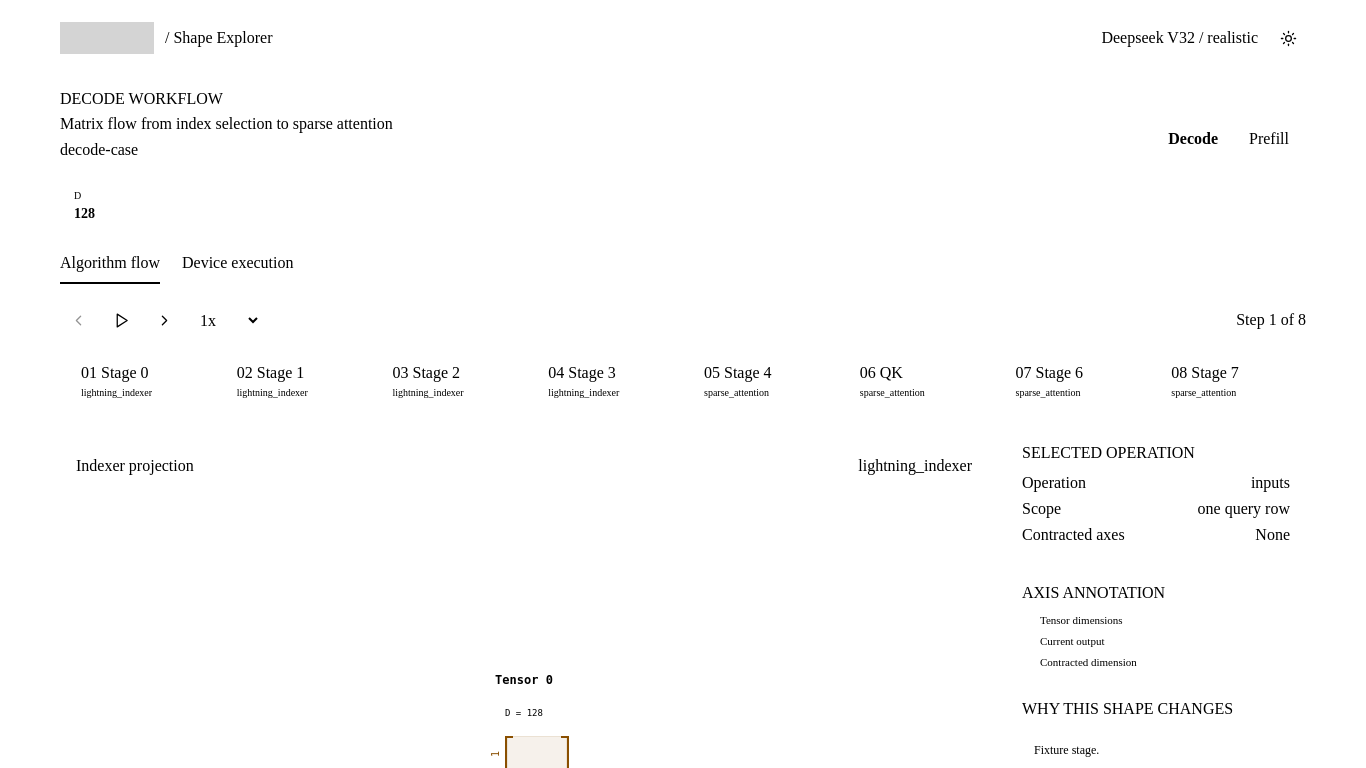
it: switches phase within the same generic group and resets the stage
The width and height of the screenshot is (1366, 768).
Click the button "06 QK sparse_attention".
click(917, 380)  # box top-left (839, 350), bottom-right (995, 410)
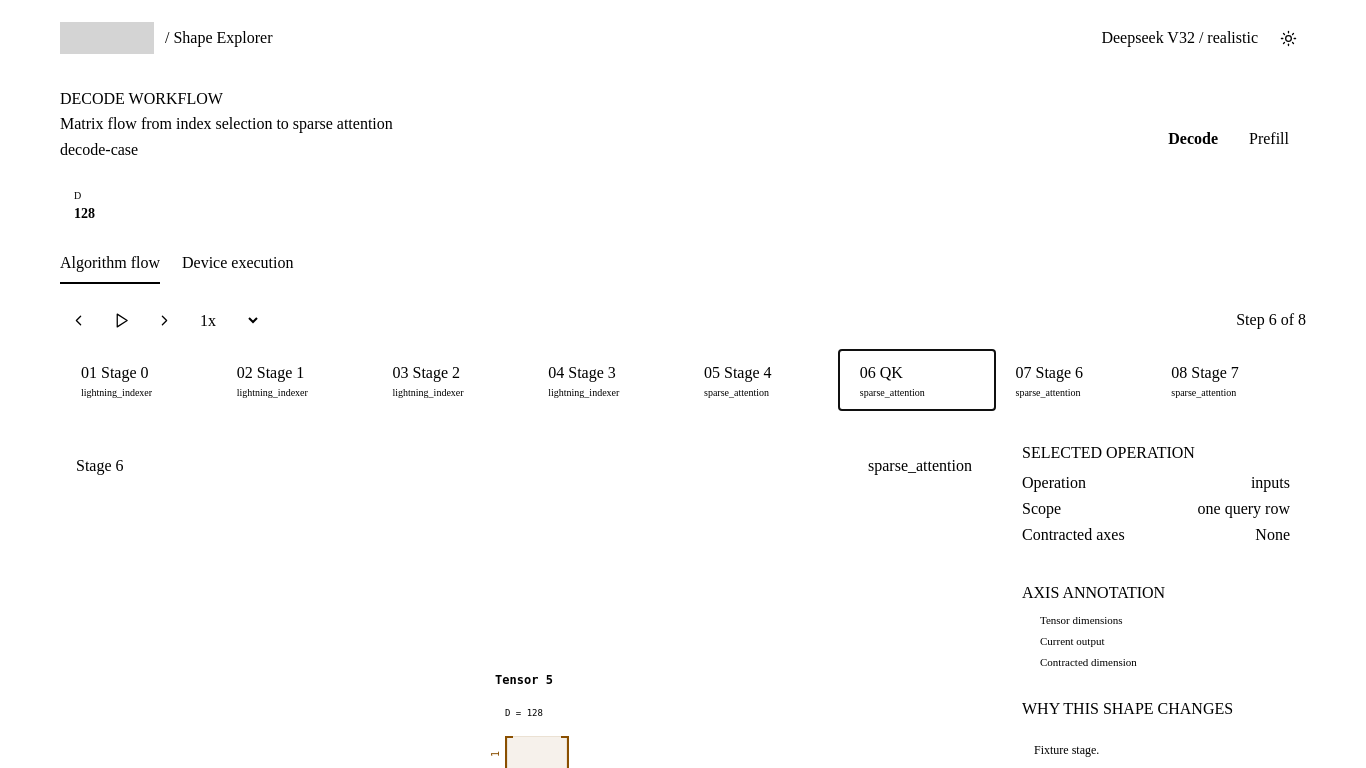
Now the text "Step 6 of 8" is shown, box top-left (1236, 311), bottom-right (1306, 329)
Click the button "Prefill".
click(1269, 139)  # box top-left (1235, 122), bottom-right (1303, 156)
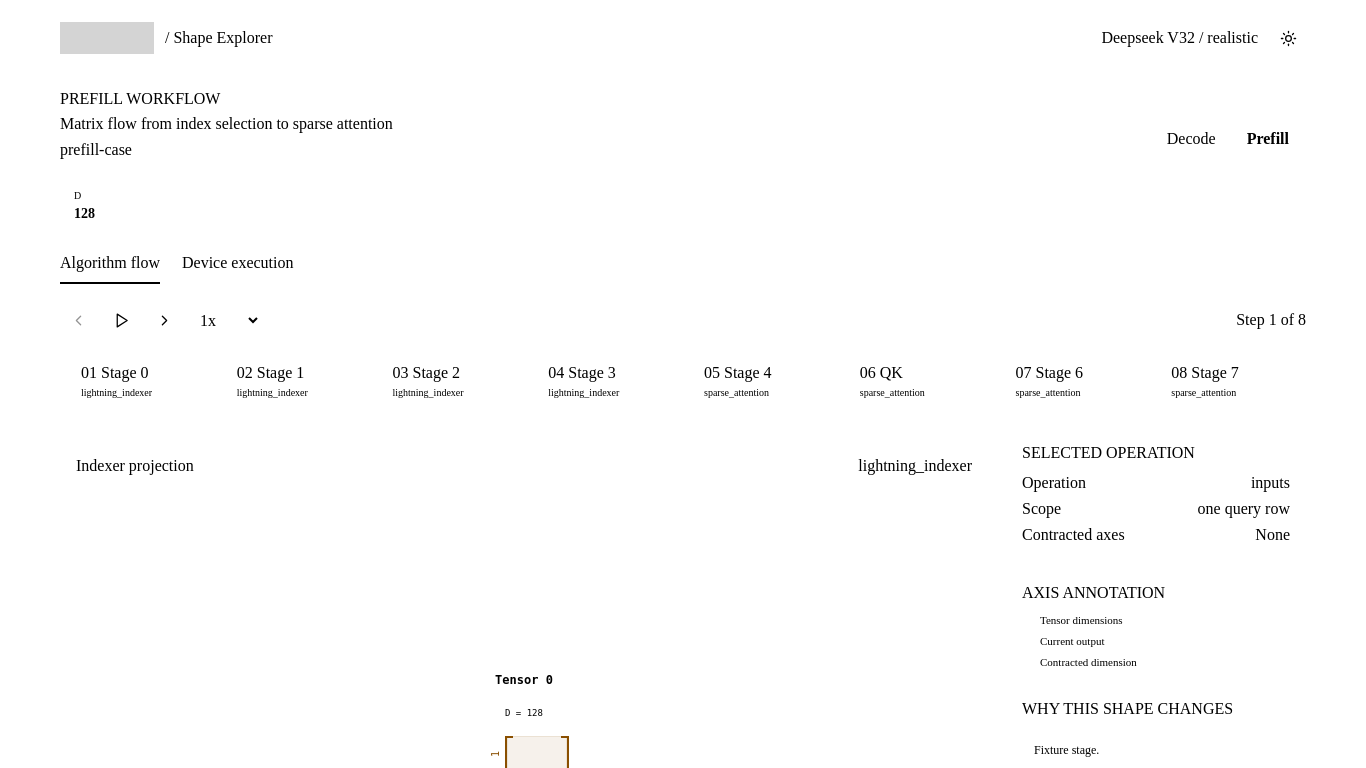
Now the heading "Indexer projection" is shown, box top-left (76, 457), bottom-right (194, 475)
Now the text "Step 1 of 8" is shown, box top-left (1236, 311), bottom-right (1306, 329)
